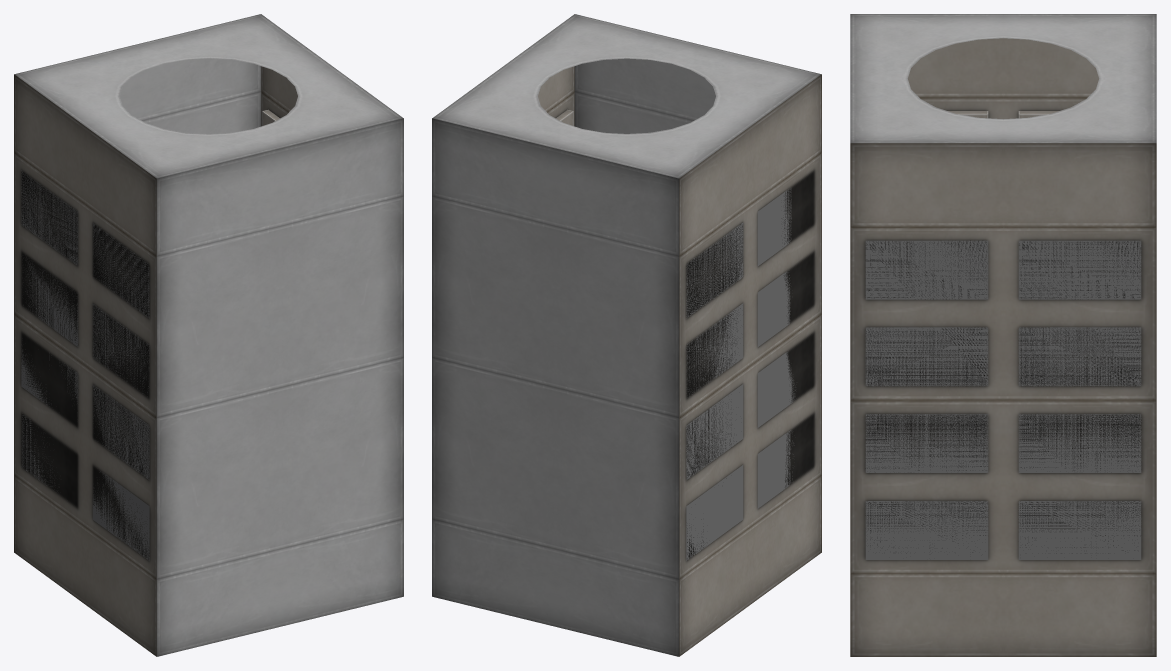
File: long interior.obj
The picture shows the model from 3 angles, left to right: view 1: azimuth 30°, elevation 25°; view 2: azimuth 150°, elevation 25°; view 3: azimuth 270°, elevation 25°; orthographic projection. The views are drawn at different scales.
Parts seen in each view (by area): view 1: i1; view 2: i1; view 3: i1.
Part boxes in pixels (bbox=[...]): i1: bbox=[14, 14, 403, 656]; i1: bbox=[432, 14, 821, 656]; i1: bbox=[850, 14, 1156, 656].
Size of the model in its own units: 1 by 1.85 by 1.
Materials: 1 (1 with a texture image).
